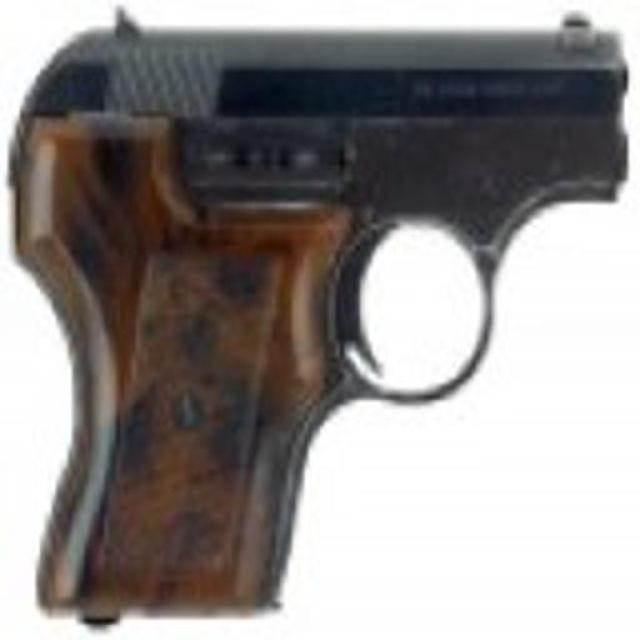pistol: (15, 15, 620, 612)
